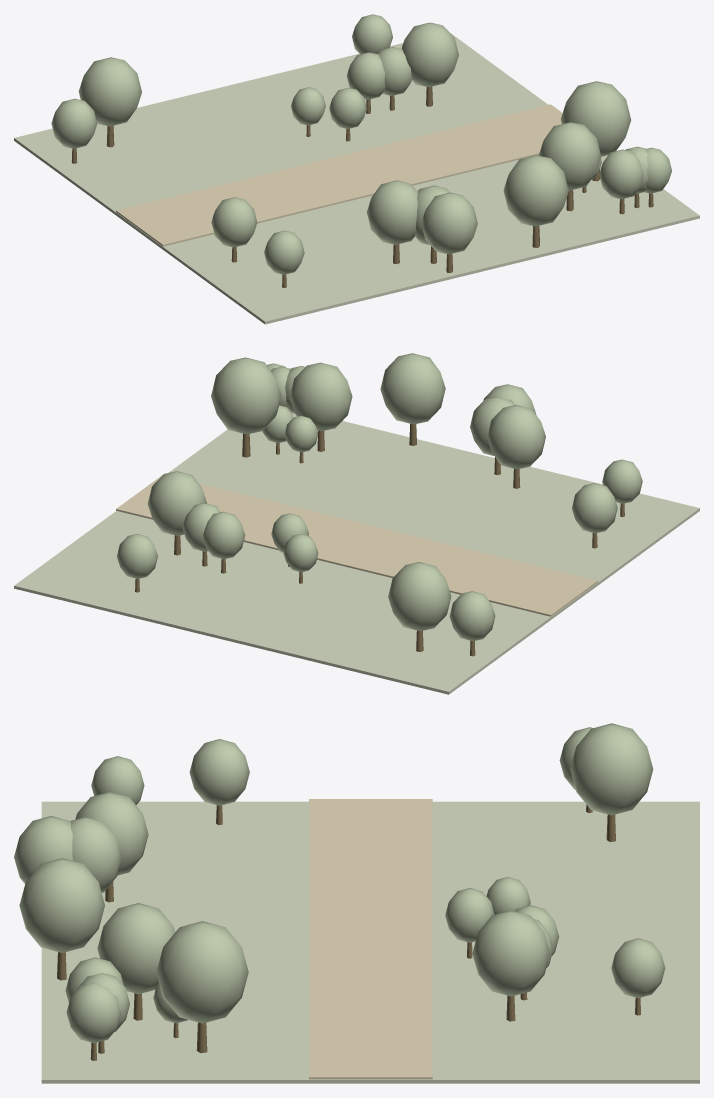
The picture shows the model from 3 angles, top to bottom: view 1: azimuth 30°, elevation 25°; view 2: azimuth 150°, elevation 25°; view 3: azimuth 270°, elevation 25°; orthographic projection. The views are drawn at different scales.
Visible parts, largest first — view 1: terrain, object 2, lod-near-0, lod-near-24, lod-near-11, lod-near-16, lod-near-8, lod-near-12, lod-near-23, lod-near-22, lod-near-30, lod-near-4 (+8 smaller); view 2: terrain, object 2, lod-near-24, lod-near-0, lod-near-11, lod-near-8, lod-near-23, lod-near-16, lod-near-22, lod-near-30, lod-near-31, lod-near-21 (+8 smaller); view 3: terrain, object 2, lod-near-24, lod-near-0, lod-near-11, lod-near-16, lod-near-8, lod-near-22, lod-near-23, lod-near-12, lod-near-18, lod-near-2 (+8 smaller).
Part boxes in pixels (<box>): terrain: <box>14,33,699,324</box>; object 2: <box>116,104,562,246</box>; lod-near-0: <box>503,155,568,226</box>; lod-near-24: <box>561,81,631,156</box>; lod-near-11: <box>78,57,141,126</box>; lod-near-16: <box>401,22,458,87</box>; lod-near-8: <box>539,122,601,190</box>; lod-near-12: <box>422,192,477,254</box>; lod-near-23: <box>366,180,417,244</box>; lod-near-22: <box>211,197,257,247</box>; lod-near-30: <box>51,98,97,148</box>; lod-near-4: <box>599,149,643,199</box>; terrain: <box>14,413,699,694</box>; object 2: <box>116,475,597,616</box>; lod-near-24: <box>211,357,281,434</box>; lod-near-0: <box>380,353,445,424</box>; lod-near-11: <box>388,562,451,631</box>; lod-near-8: <box>289,362,352,431</box>; lod-near-23: <box>487,405,545,469</box>; lod-near-16: <box>148,471,206,535</box>; lod-near-22: <box>572,483,617,533</box>; lod-near-30: <box>449,591,495,641</box>; lod-near-31: <box>203,511,245,559</box>; lod-near-21: <box>117,534,157,578</box>; terrain: <box>41,801,699,1083</box>; object 2: <box>309,799,432,1079</box>; lod-near-24: <box>156,921,248,1023</box>; lod-near-0: <box>19,858,104,952</box>; lod-near-11: <box>570,723,653,815</box>; lod-near-16: <box>472,910,550,996</box>; lod-near-8: <box>97,903,174,994</box>; lod-near-22: <box>189,739,249,805</box>; lod-near-23: <box>75,792,148,875</box>; lod-near-12: <box>14,816,72,883</box>; lod-near-18: <box>70,817,121,892</box>; lod-near-2: <box>66,983,121,1043</box>.
Bounding box in the file's own units: 32.11 × 7.1 × 33.34.
